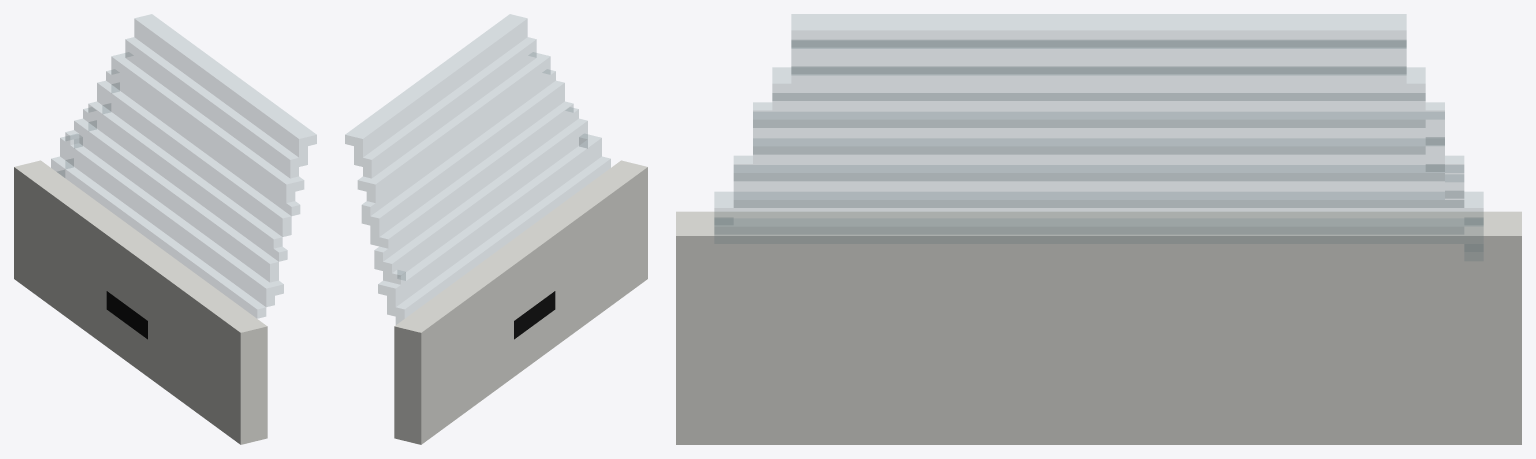
The model's file is electric_crossover_tailgate.glb.
3 renders of one model, left to right at view 1: azimuth 30°, elevation 25°; view 2: azimuth 150°, elevation 25°; view 3: azimuth 270°, elevation 25°, orthographic. The views are drawn at different scales.
Parts seen in each view (by area): view 1: body:compound; view 2: body:compound; view 3: body:compound.
Part boxes in pixels (box(x1,y1,x2,y2)): body:compound: box(14, 14, 316, 444); body:compound: box(345, 14, 647, 444); body:compound: box(676, 14, 1521, 444).
Bounding box in the file's own units: 0.375 × 0.875 × 1.38.
